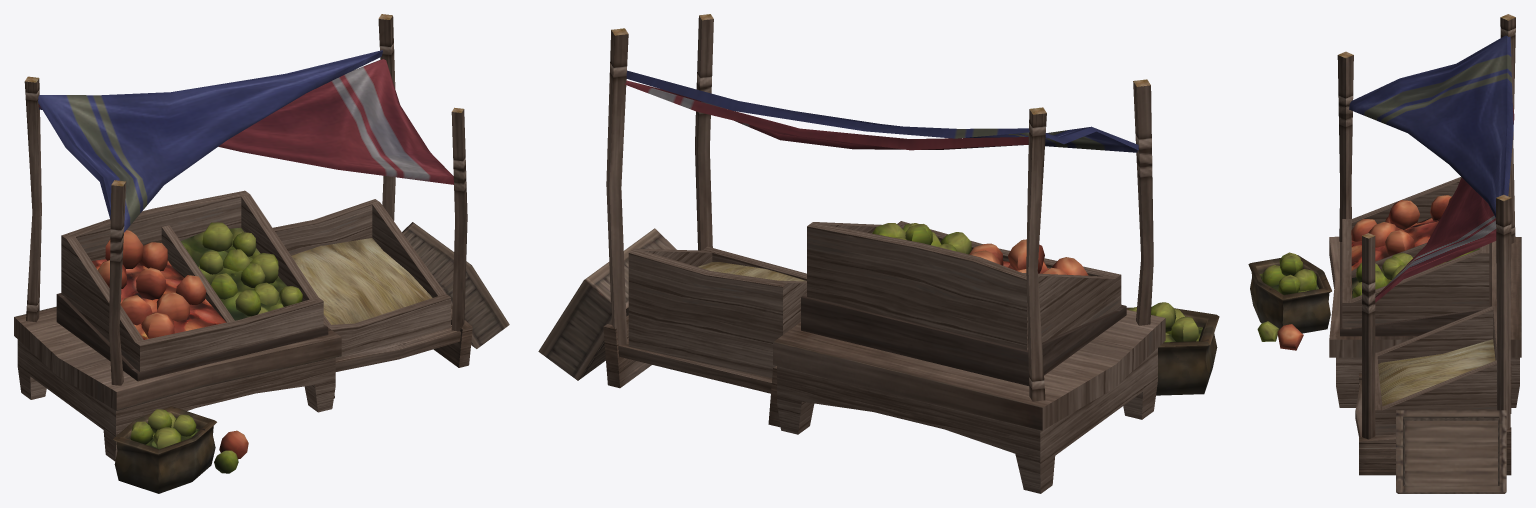
The model's file is handan_field_a_s01a.fbx.
3 renders of one model, left to right at view 1: azimuth 30°, elevation 25°; view 2: azimuth 150°, elevation 25°; view 3: azimuth 270°, elevation 25°, orthographic. The views are drawn at different scales.
Parts seen in each view (by area): view 1: handan_field_a_s01a; view 2: handan_field_a_s01a; view 3: handan_field_a_s01a.
Boxes of the visible parts, box(x1,y1,x2,y2) form: handan_field_a_s01a: box(14, 14, 509, 493); handan_field_a_s01a: box(538, 14, 1219, 493); handan_field_a_s01a: box(1248, 14, 1521, 493).
Bounding box in the file's own units: 494 × 337 × 278.
